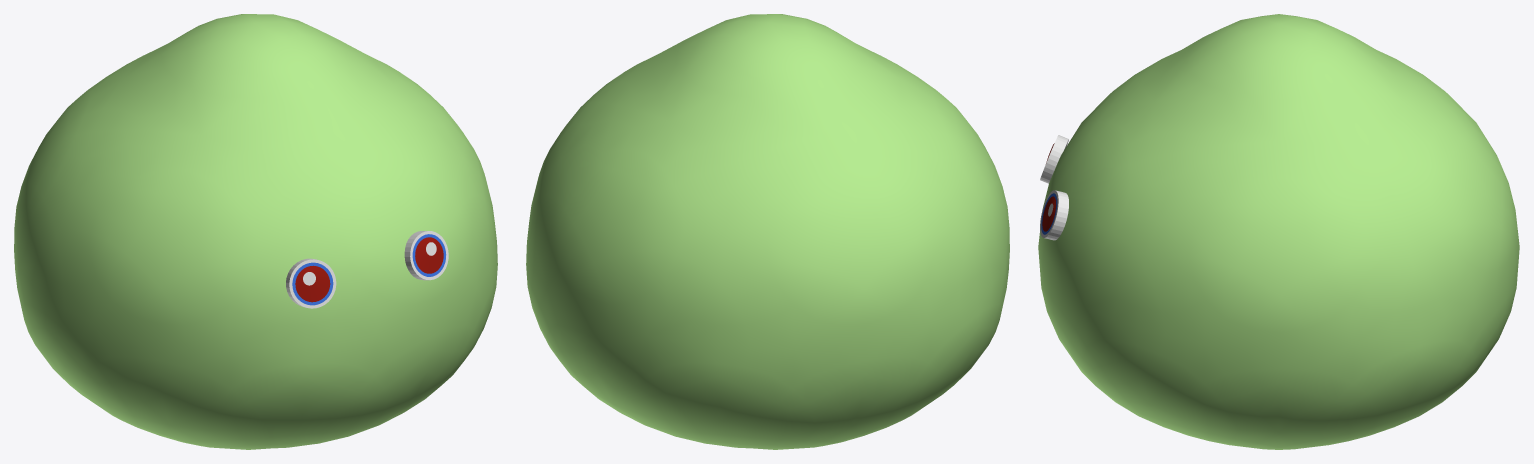
The model's file is slimeA.fbx.
The picture shows the model from 3 angles, left to right: view 1: azimuth 30°, elevation 25°; view 2: azimuth 150°, elevation 25°; view 3: azimuth 270°, elevation 25°; orthographic projection.
Visible parts, largest first — view 1: Slime1; view 2: Slime1; view 3: Slime1.
Boxes of the visible parts, box(x1,y1,x2,y2) form: Slime1: box(14, 14, 497, 449); Slime1: box(526, 14, 1009, 449); Slime1: box(1038, 14, 1519, 449).
Bounding box in the file's own units: 438 × 391 × 439.
